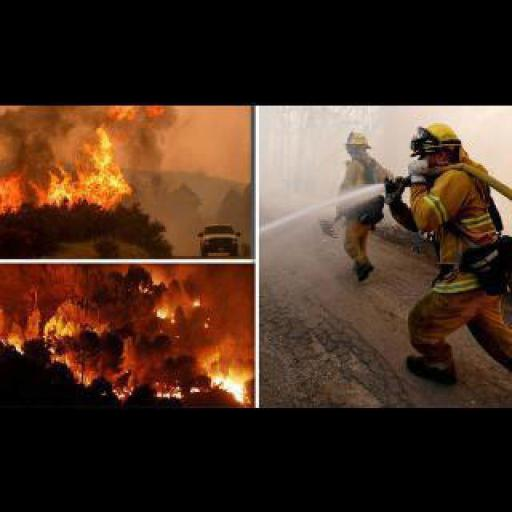smoke: (197, 354, 254, 404), (155, 294, 211, 330), (117, 380, 184, 402)
